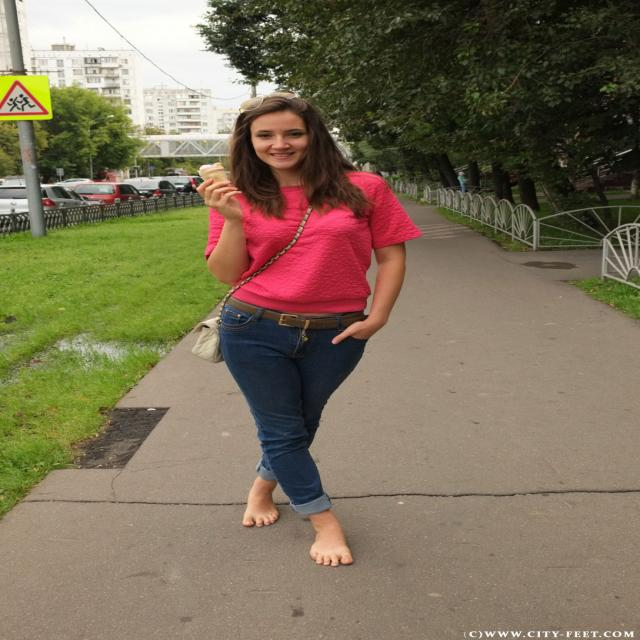Barefoots: (310, 522, 354, 567), (242, 487, 280, 527)
